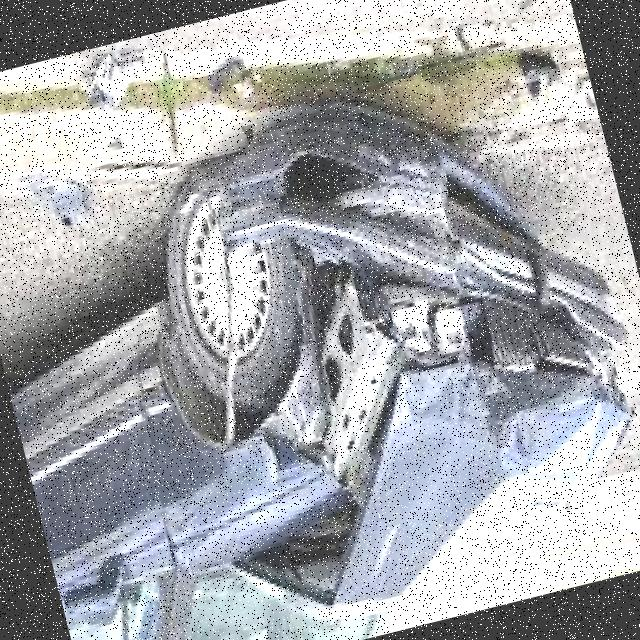Severe Damage: (122, 37, 640, 640)
